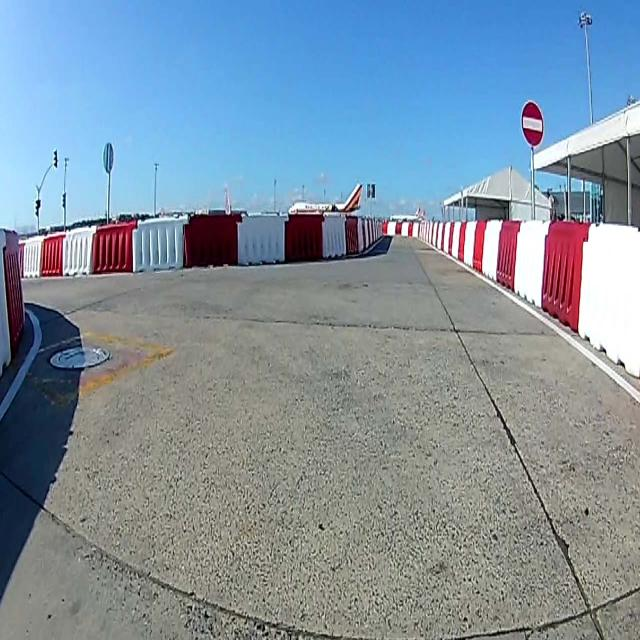girisyok: (520, 98, 544, 146)
